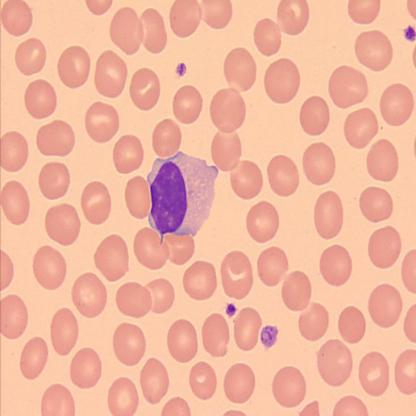Atypical lymphocyte: (149, 149, 218, 241)
